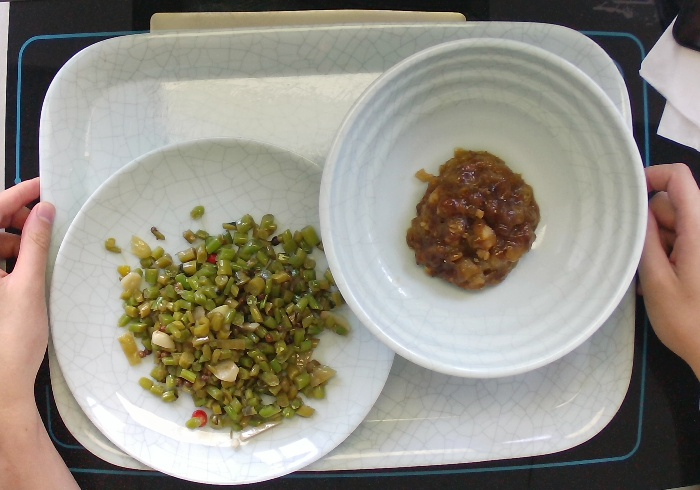JYsf-Da_Tang_Wan: (324, 40, 652, 372)
JYsf-Da_Yuan_Pan: (50, 133, 391, 490)
